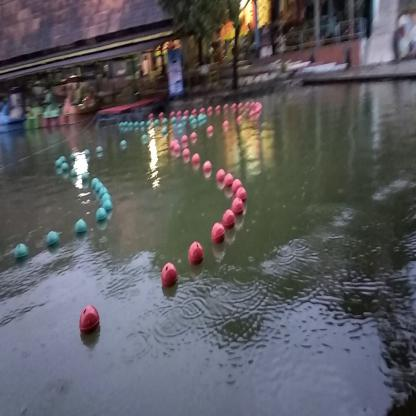green_buoy: (15, 242, 29, 264), (102, 199, 114, 215), (76, 218, 87, 235), (47, 233, 58, 248), (97, 208, 106, 223), (100, 188, 108, 198), (95, 182, 101, 193), (83, 172, 89, 180)
red_buoy: (80, 303, 100, 332), (162, 263, 178, 289), (190, 243, 204, 265), (222, 210, 234, 232), (212, 223, 223, 244), (231, 198, 243, 216), (232, 179, 241, 195), (203, 160, 212, 175), (216, 169, 224, 184), (225, 175, 234, 188), (236, 189, 245, 202), (193, 152, 200, 167), (183, 147, 189, 158)
